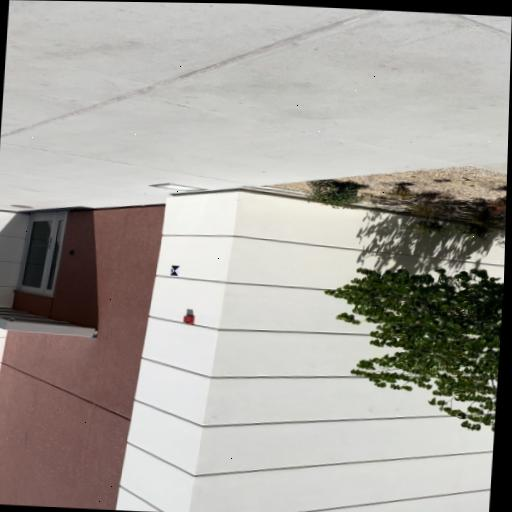target6: (169, 265, 180, 275)
